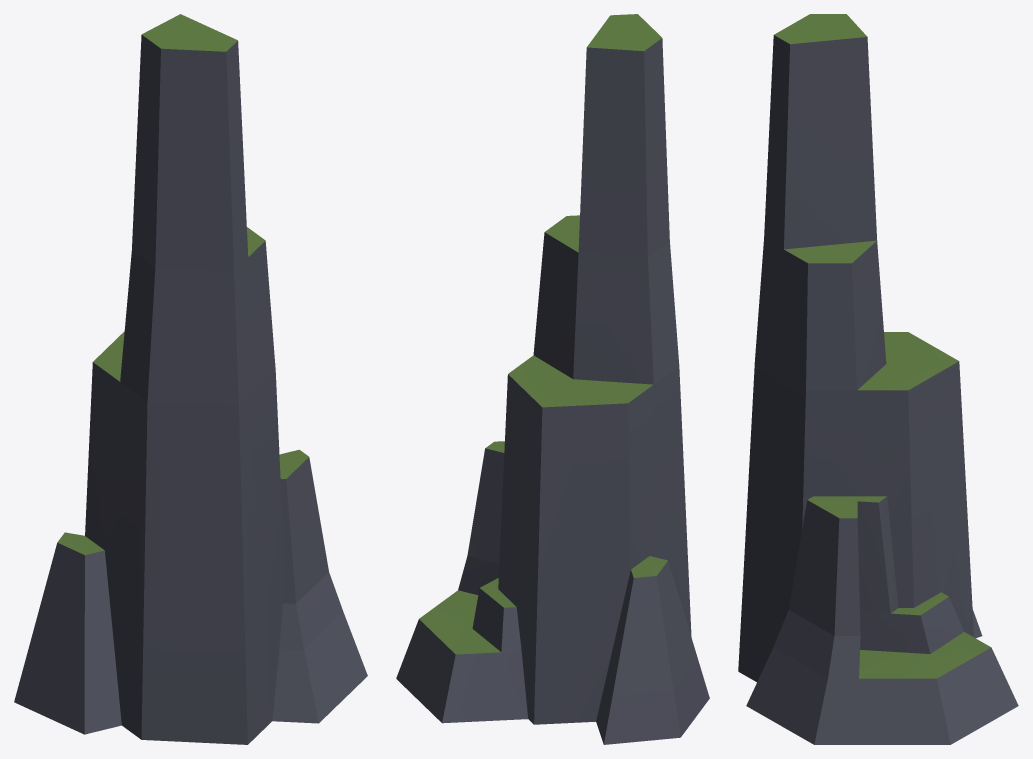
File: crag.glb
The picture shows the model from 3 angles, left to right: view 1: azimuth 30°, elevation 25°; view 2: azimuth 150°, elevation 25°; view 3: azimuth 270°, elevation 25°; orthographic projection. The views are drawn at different scales.
Visible parts, largest first — view 1: crag; view 2: crag; view 3: crag.
Boxes of the visible parts, x1,y1,x2,y2 form: crag: (14,14,367,744); crag: (396,14,709,744); crag: (738,14,1018,744).
Size of the model in its own units: 9 by 20 by 8.
